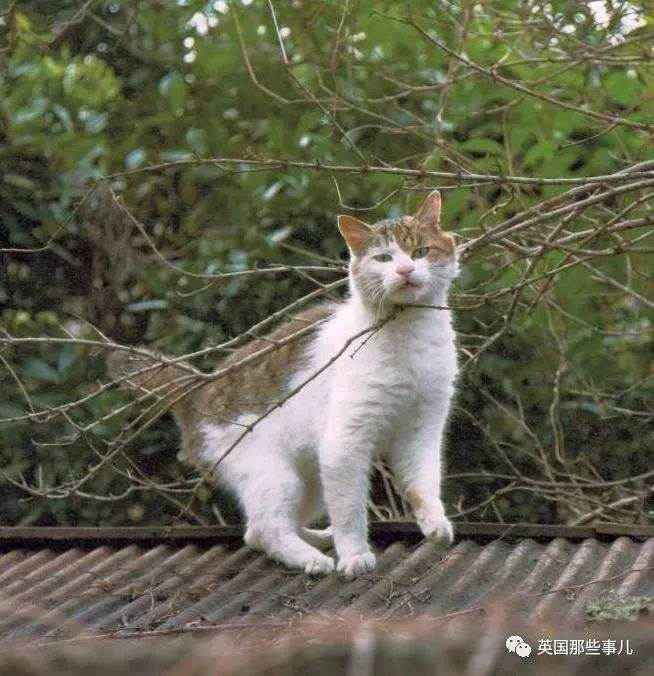cat: (110, 186, 461, 577)
